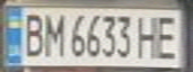3: (115, 11, 136, 60), (100, 11, 121, 58)
6: (66, 11, 87, 57), (84, 11, 103, 58)
B: (18, 9, 48, 57)
E: (151, 12, 184, 61)
H: (136, 11, 163, 60)
M: (39, 10, 66, 58)
